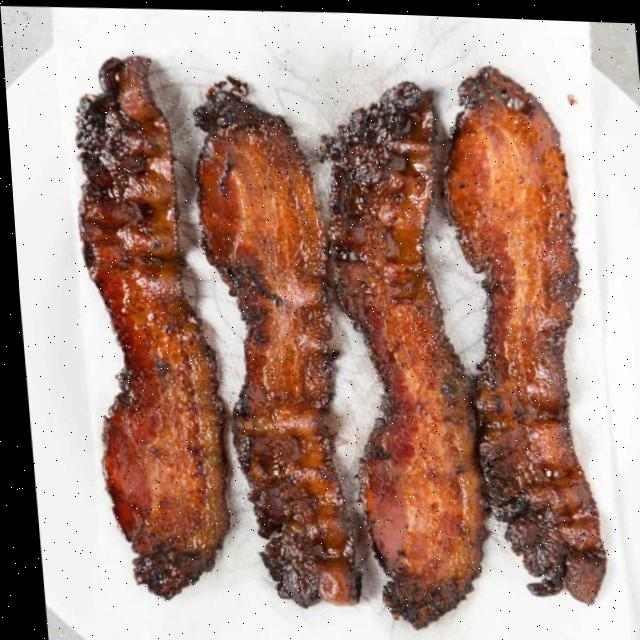Bacon: (319, 79, 477, 625), (192, 76, 352, 604), (443, 62, 598, 599), (74, 55, 220, 597)
